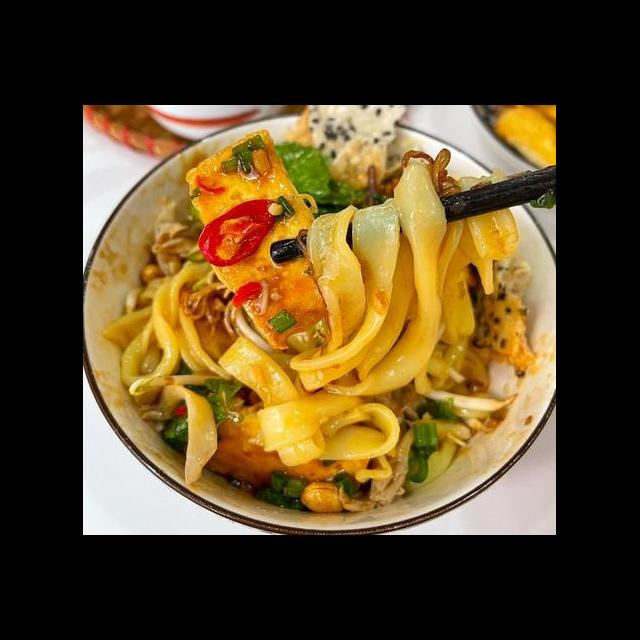banh da: (282, 106, 410, 201), (470, 254, 542, 376)
mi: (286, 159, 522, 397), (97, 248, 245, 488), (218, 331, 404, 470)
